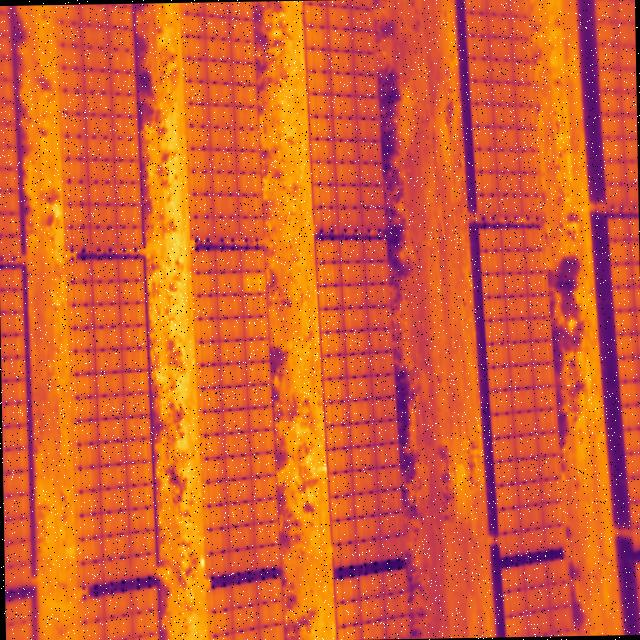Hotspot: (242, 272, 266, 292)
